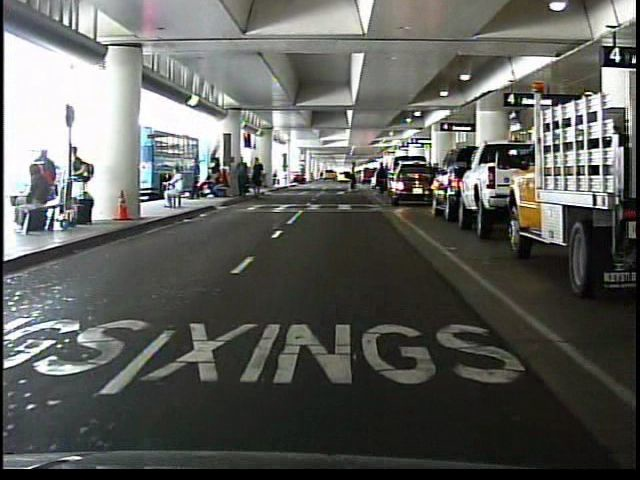person: (159, 168, 188, 213), (342, 160, 364, 195), (189, 156, 205, 202), (371, 158, 388, 199)
